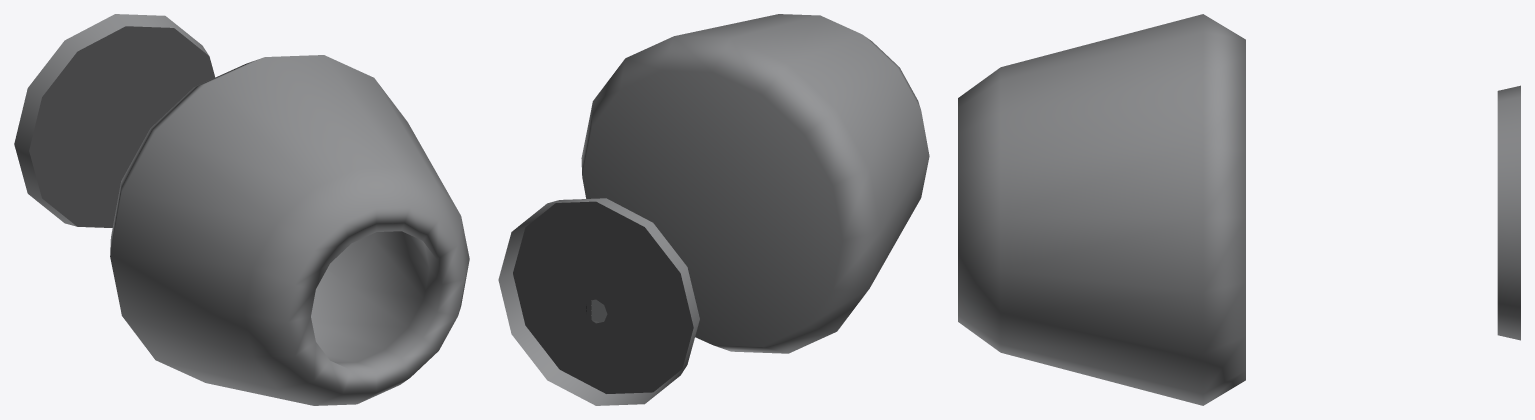
The picture shows the model from 3 angles, left to right: view 1: azimuth 30°, elevation 25°; view 2: azimuth 150°, elevation 25°; view 3: azimuth 270°, elevation 25°; orthographic projection. The views are drawn at different scales.
Bounding box in the file's own units: 0.3974 × 0.3974 × 0.5702.
